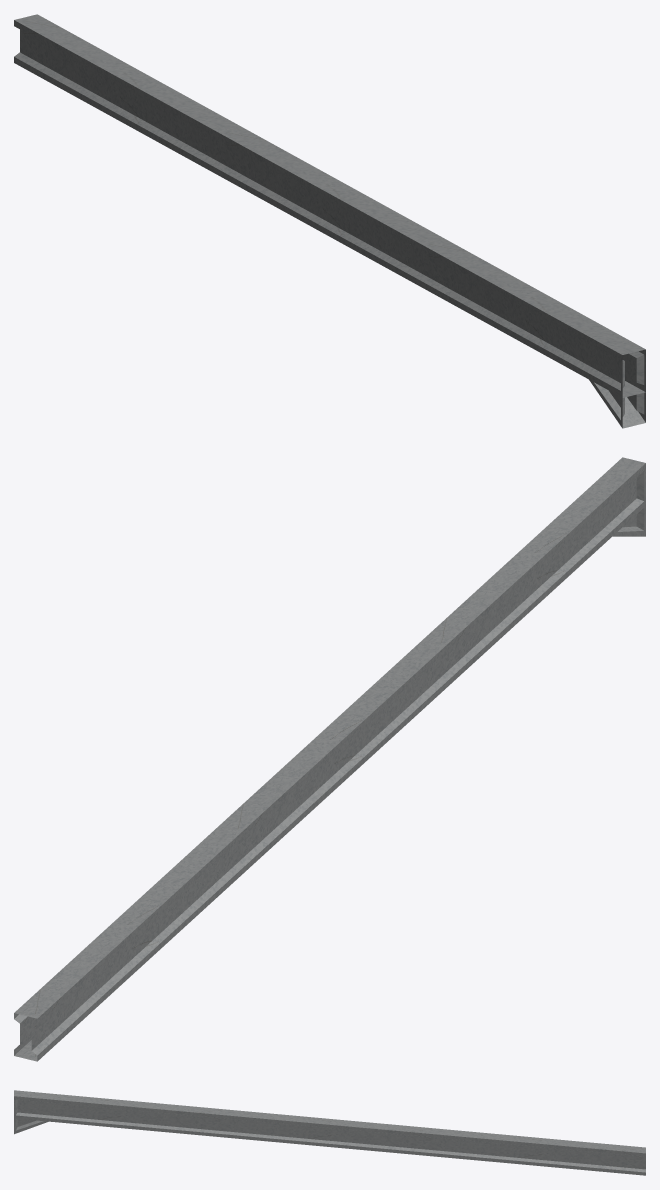
The model's file is warehouse_pillar_roof.glb.
3 views of the same model, one above another, from view 1: azimuth 30°, elevation 25°; view 2: azimuth 150°, elevation 25°; view 3: azimuth 270°, elevation 25° (orthographic). The views are drawn at different scales.
Visible parts, largest first — view 1: Cube.012, Cube.011, Cube.009, Cube.120; view 2: Cube.009, Cube.012, Cube.011; view 3: Cube.011, Cube.009, Cube.012, Cube.120.
Part boxes in pixels (x1,y1,x2,y2): Cube.012: (419, 238, 645, 397); Cube.011: (217, 126, 442, 285); Cube.009: (14, 14, 239, 174); Cube.120: (589, 380, 645, 428); Cube.009: (14, 828, 240, 1061); Cube.012: (420, 457, 645, 690); Cube.011: (217, 642, 442, 875); Cube.011: (224, 1109, 435, 1156); Cube.009: (435, 1128, 645, 1175); Cube.012: (14, 1090, 224, 1137); Cube.120: (14, 1118, 48, 1134).
Size of the model in its own units: 0.8 by 5 by 36.
1 material, 1 textured.
